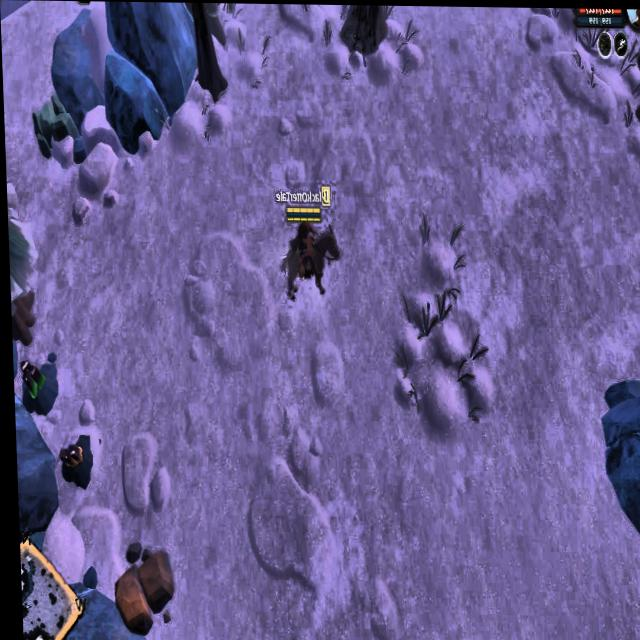copperore: (53, 433, 92, 491)
limestone: (107, 540, 173, 640)
sandstone: (26, 88, 80, 156)
tinore: (13, 350, 60, 416)
